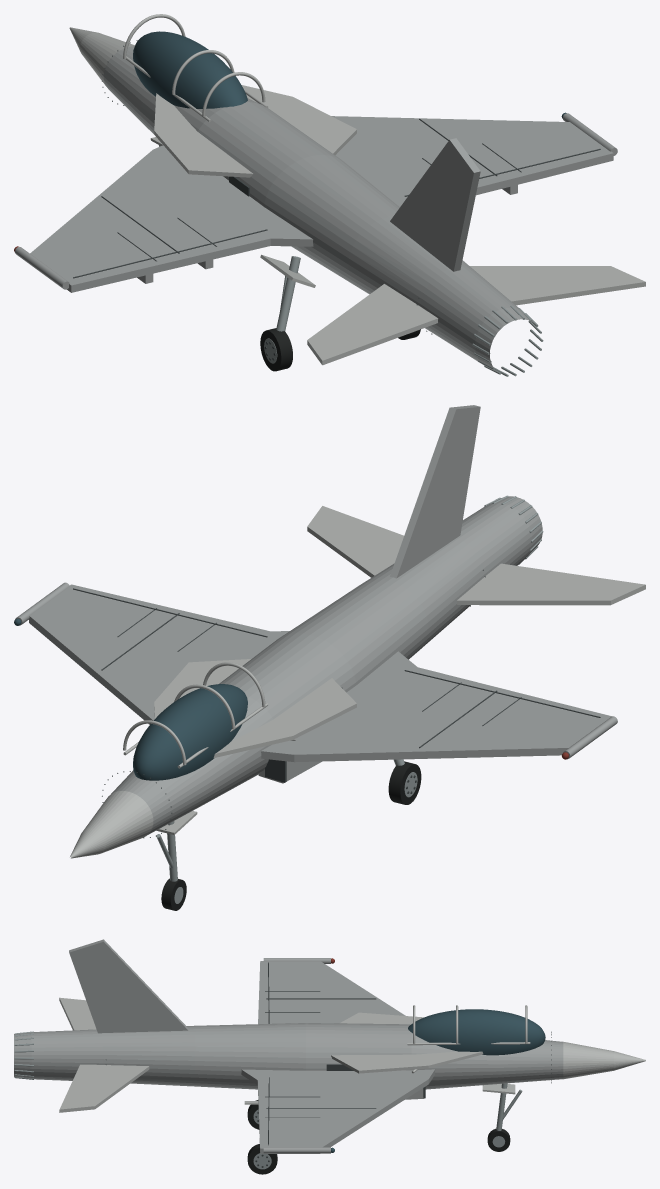
The model's file is fa50-reference.glb.
3 renders of one model, top to bottom at view 1: azimuth 30°, elevation 25°; view 2: azimuth 150°, elevation 25°; view 3: azimuth 270°, elevation 25°, orthographic. The views are drawn at different scales.
Parts seen in each view (by area): view 1: grey, light, glass, steel, dark, rubber; view 2: grey, light, glass, dark, rubber, steel; view 3: grey, light, glass, steel, dark, rubber.
Boxes of the visible parts, x1,y1,x2,y2 form: grey: (15,46,617,372); light: (69,14,645,365); glass: (133,31,566,118); steel: (159,145,543,376); dark: (73,40,600,360); rubber: (260,328,420,371); grey: (15,405,617,834); light: (70,506,645,858); glass: (14,618,247,780); dark: (73,569,600,838); rubber: (161,761,421,910); steel: (156,495,543,903); grey: (14,939,563,1153); light: (59,997,645,1112); glass: (331,1009,545,1152); steel: (14,1031,522,1169); dark: (106,962,551,1167); rubber: (247,1100,510,1174).
Bounding box in the file's own units: 9.44 × 4.81 × 13.13.
